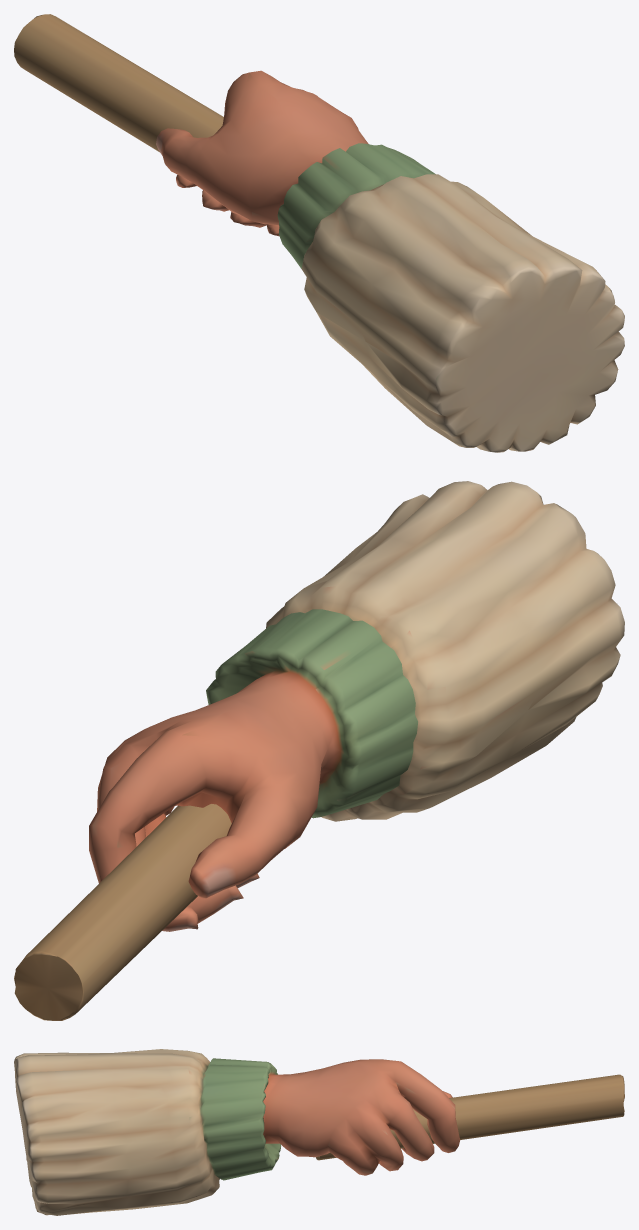
Rendered from grip.glb.
3 renders of one model, top to bottom at view 1: azimuth 30°, elevation 25°; view 2: azimuth 150°, elevation 25°; view 3: azimuth 270°, elevation 25°, orthographic. The views are drawn at different scales.
Visible parts, largest first — view 1: hand, stick; view 2: hand, stick; view 3: hand, stick.
Boxes of the visible parts, box(x1,y1,x2,y2) form: hand: box(156, 70, 624, 452); stick: box(14, 14, 223, 152); hand: box(89, 481, 624, 931); stick: box(14, 804, 231, 1020); hand: box(14, 1049, 460, 1215); stick: box(316, 1074, 624, 1160).
Size of the model in its own units: 0.1119 by 0.1054 by 0.4108.
